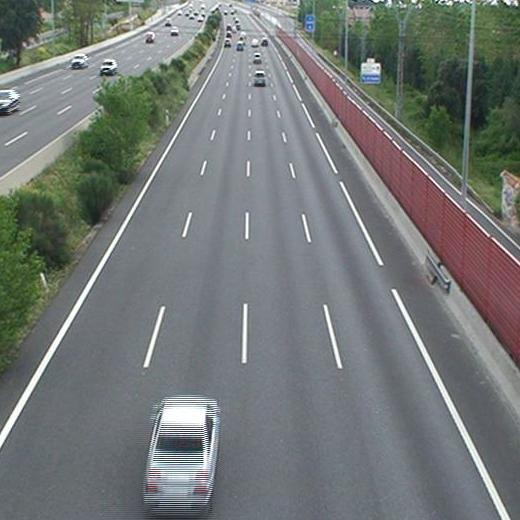car: (145, 397, 218, 506), (253, 71, 265, 86), (235, 40, 244, 50), (253, 53, 261, 63)
